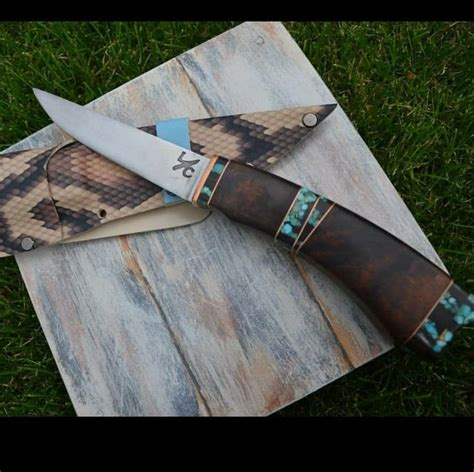knife: (30, 85, 474, 354)
